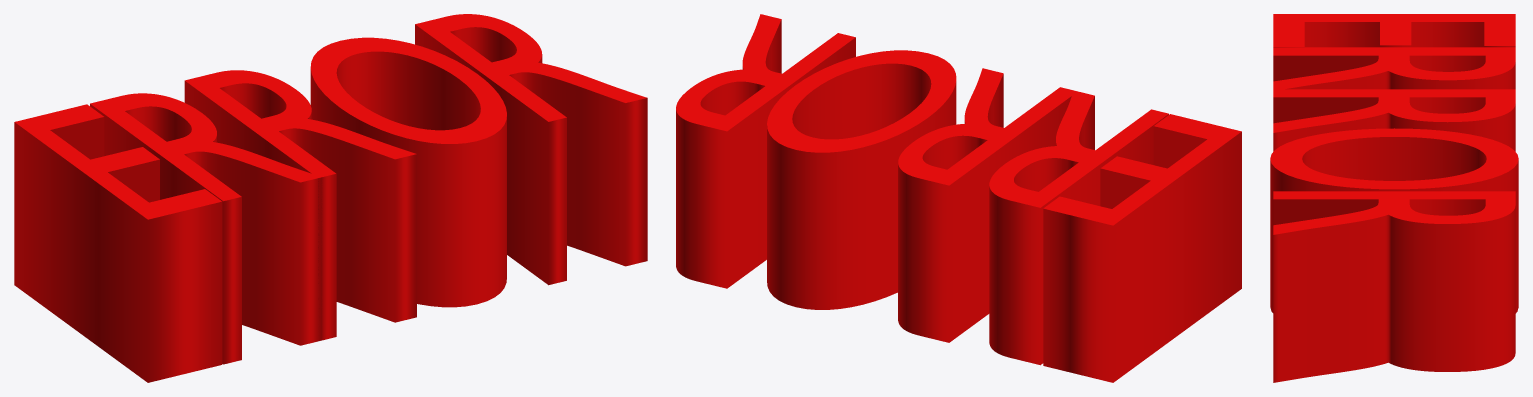
File: error.glb
The picture shows the model from 3 angles, left to right: view 1: azimuth 30°, elevation 25°; view 2: azimuth 150°, elevation 25°; view 3: azimuth 270°, elevation 25°; orthographic projection. The views are drawn at different scales.
Visible parts, largest first — view 1: Text; view 2: Text; view 3: Text.
Part boxes in pixels (left/top/right/bottom): Text: left=14, top=14, right=647, bottom=382; Text: left=676, top=14, right=1241, bottom=382; Text: left=1270, top=14, right=1518, bottom=382.
Bounding box in the file's own units: 1.47 × 0.46 × 0.7.
